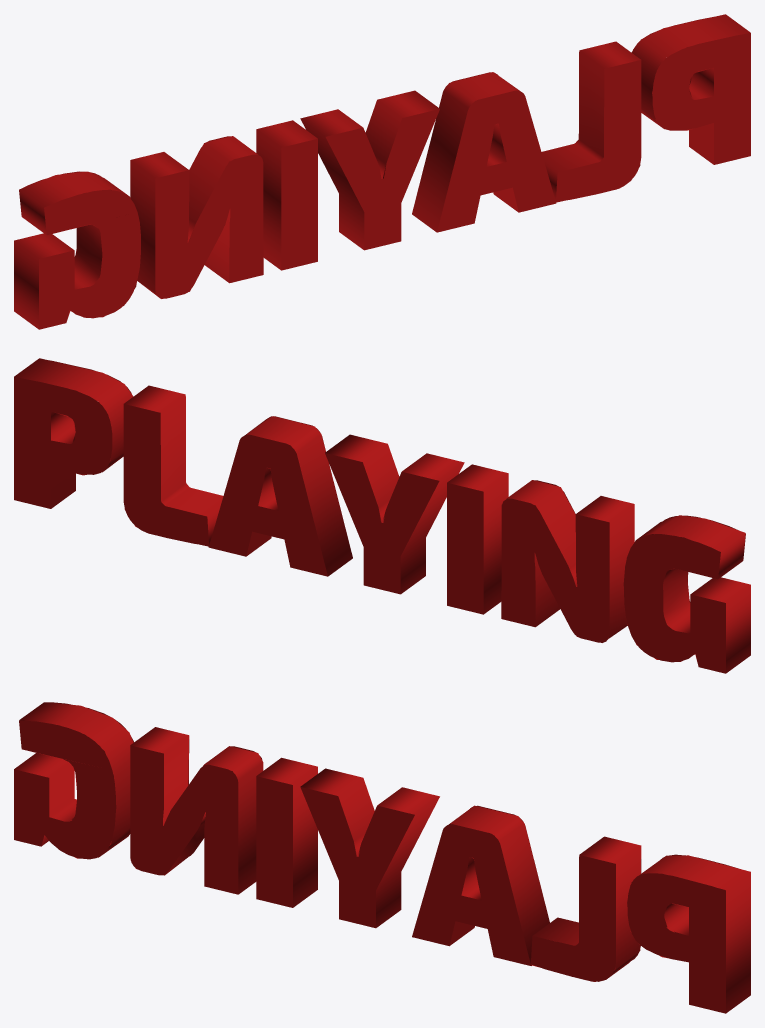
The model's file is playing.fbx.
The picture shows the model from 3 angles, top to bottom: view 1: azimuth 30°, elevation 25°; view 2: azimuth 150°, elevation 25°; view 3: azimuth 330°, elevation 25°; orthographic projection.
Parts seen in each view (by area): view 1: Text; view 2: Text; view 3: Text.
Boxes of the visible parts, x1,y1,x2,y2 form: Text: (14, 14, 750, 329); Text: (14, 358, 750, 673); Text: (14, 702, 750, 1013).
Size of the model in its own units: 13.09 by 2.27 by 0.8.
